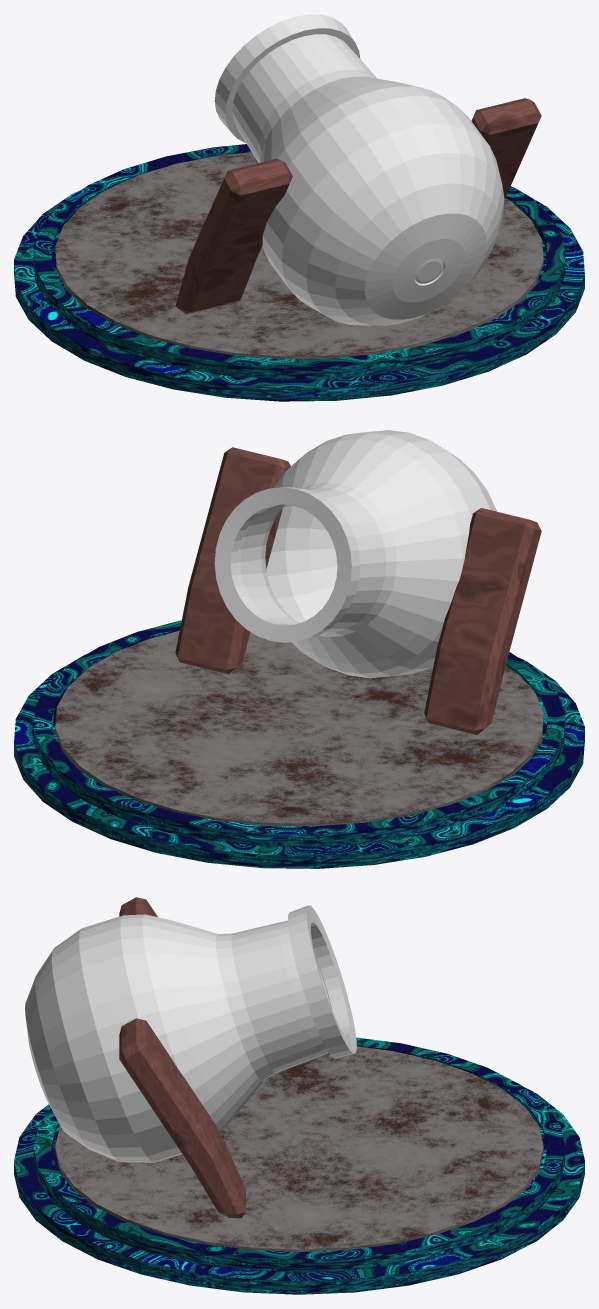
File: CannonTower.fbx
The picture shows the model from 3 angles, top to bottom: view 1: azimuth 30°, elevation 25°; view 2: azimuth 150°, elevation 25°; view 3: azimuth 270°, elevation 25°; orthographic projection.
Visible parts, largest first — view 1: Cannon_head, Da_moving_part, Base, Support; view 2: Da_moving_part, Cannon_head, Base, Support; view 3: Da_moving_part, Cannon_head, Base, Support.
Part boxes in pixels (x1,y1,x2,y2): Cannon_head: (214,14,504,325); Da_moving_part: (55,152,543,358); Base: (14,144,584,401); Support: (175,98,541,314); Da_moving_part: (55,631,543,826); Cannon_head: (214,430,496,678); Base: (14,620,584,868); Support: (175,447,541,734); Da_moving_part: (55,1046,543,1251); Cannon_head: (25,905,356,1162); Base: (14,1037,584,1294); Support: (119,897,245,1218).
Size of the model in its own units: 1130 by 570 by 1130.
Materials: 4 (3 with a texture image).
